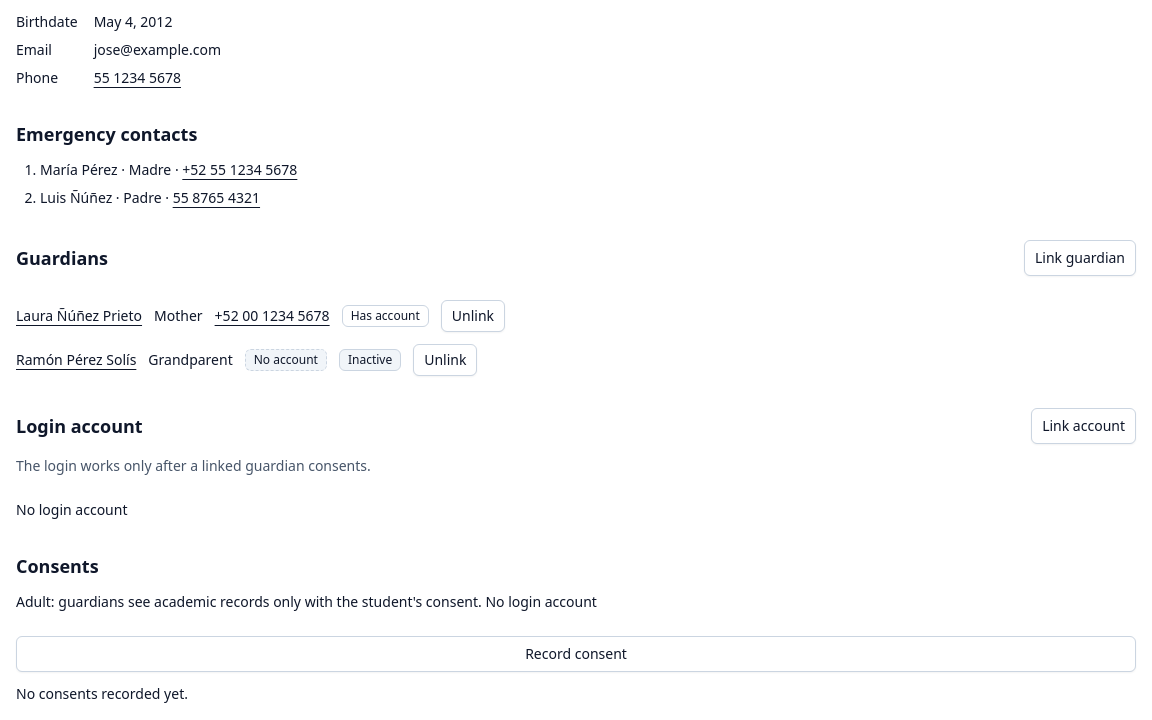
Test: staff (I2) › an adult offers academic access only, and shows the empty text
(page scrolled)
Expected: the element that starts with "Consents" shows "Adult: guardians see academic records only with the student's consent.", [16, 592, 482, 611]
Expected: the element that starts with "Consents" shows "No consents recorded yet.", [16, 684, 188, 703]
Click the button "Record consent": (576,654) [16, 636, 1136, 672]
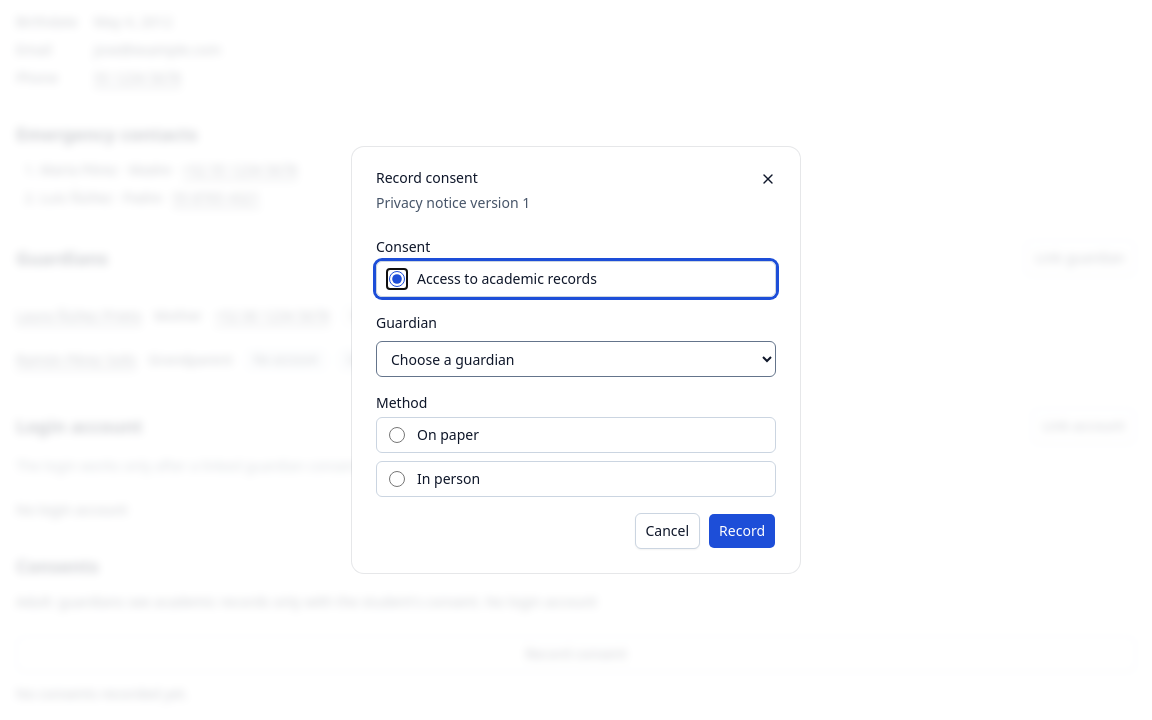
Expected: the radio button labelled "Access to academic records" is shown, [389, 271, 405, 287]
